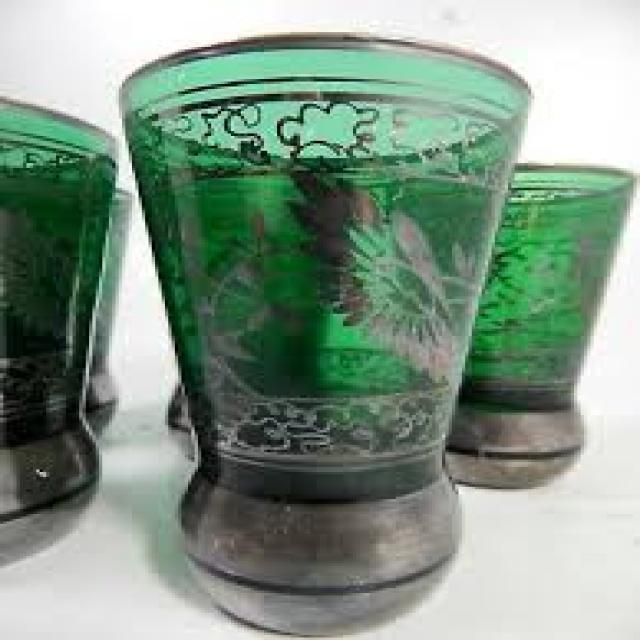glass: (116, 30, 531, 638), (442, 161, 637, 489), (0, 92, 99, 564), (76, 180, 125, 435)
